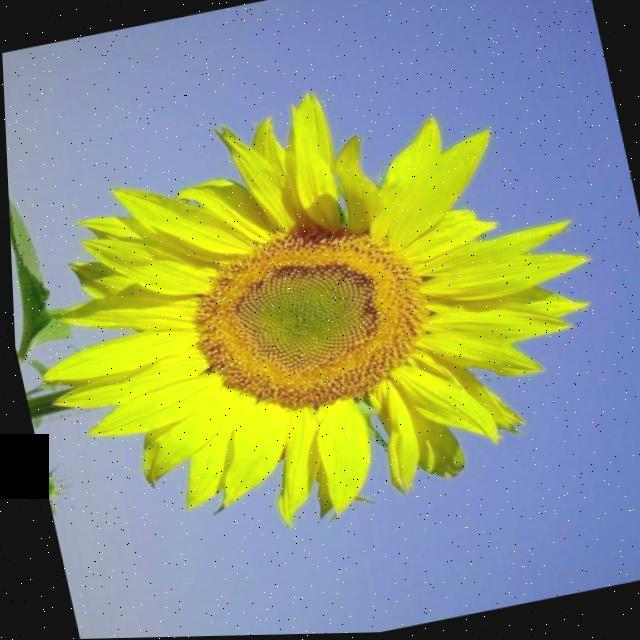sunflower: (2, 50, 640, 582)
